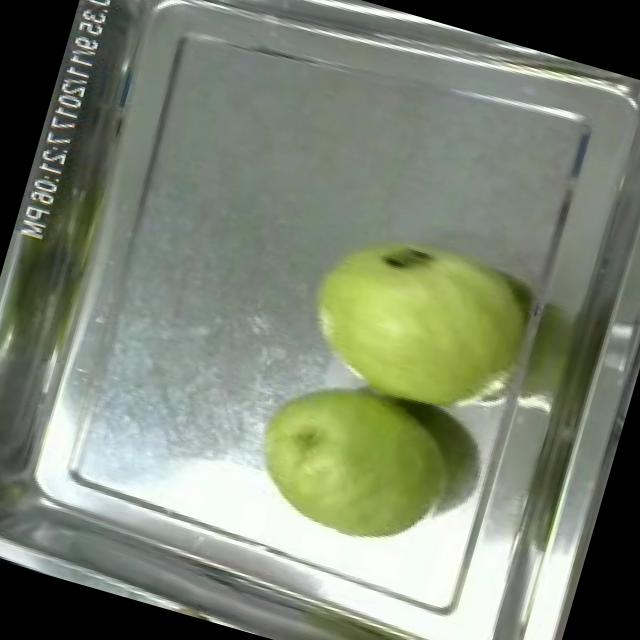Fruit: (280, 200, 556, 442), (234, 356, 472, 567)
